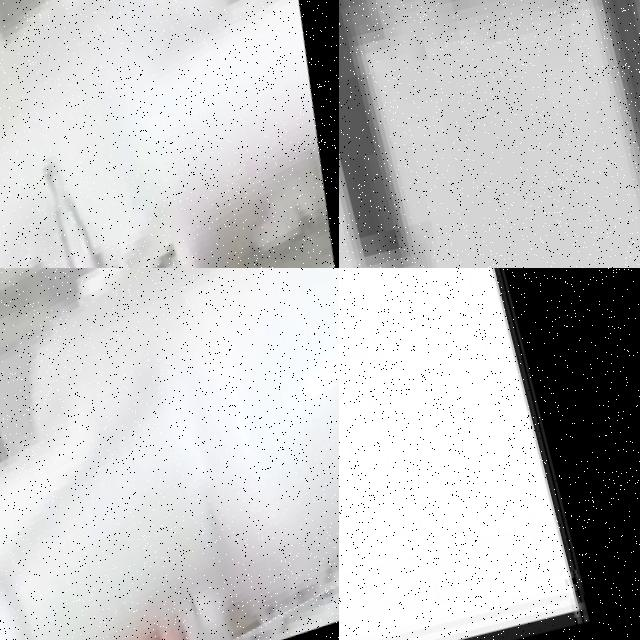drone: (0, 268, 339, 640), (0, 0, 339, 268)
